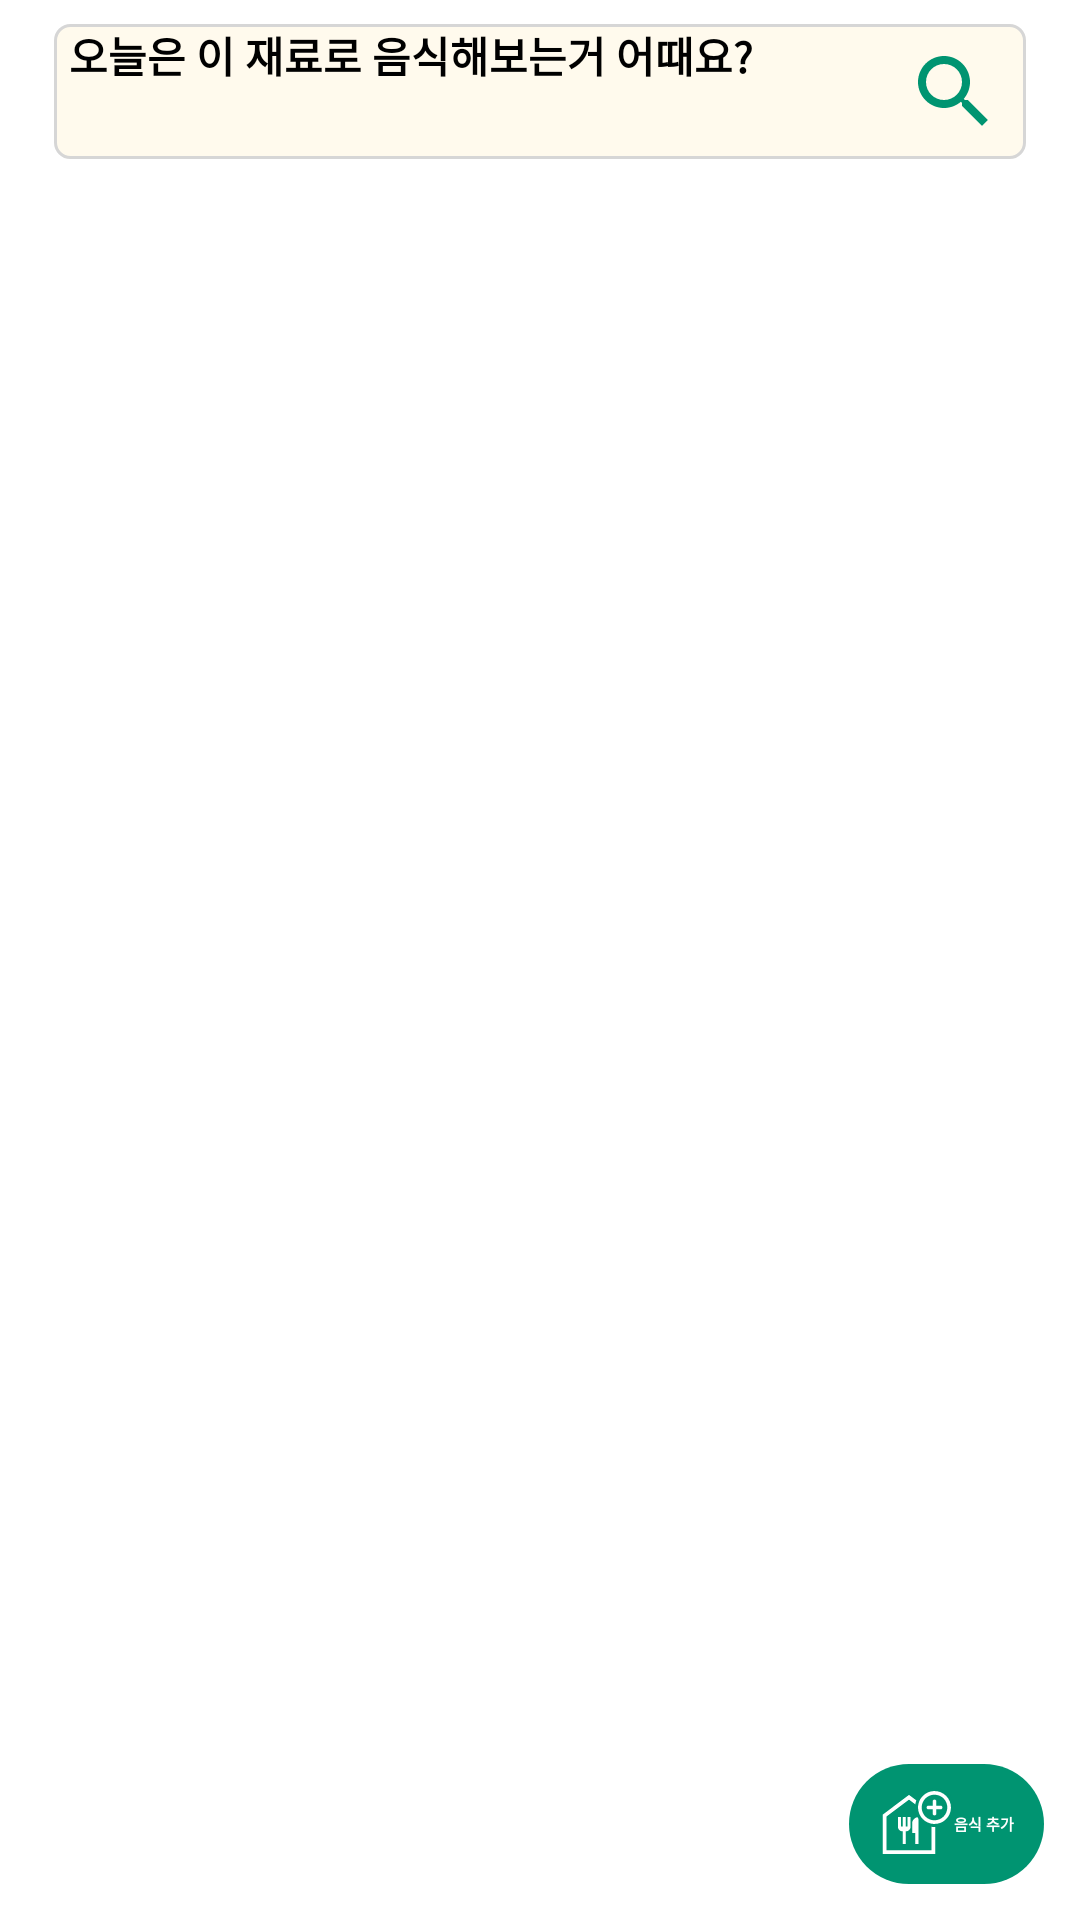

Point at icon controls on the screen. Image size 1080px x 1920px, points as point (x, y).
ref add: point (916, 1822)
search: point (953, 91)
